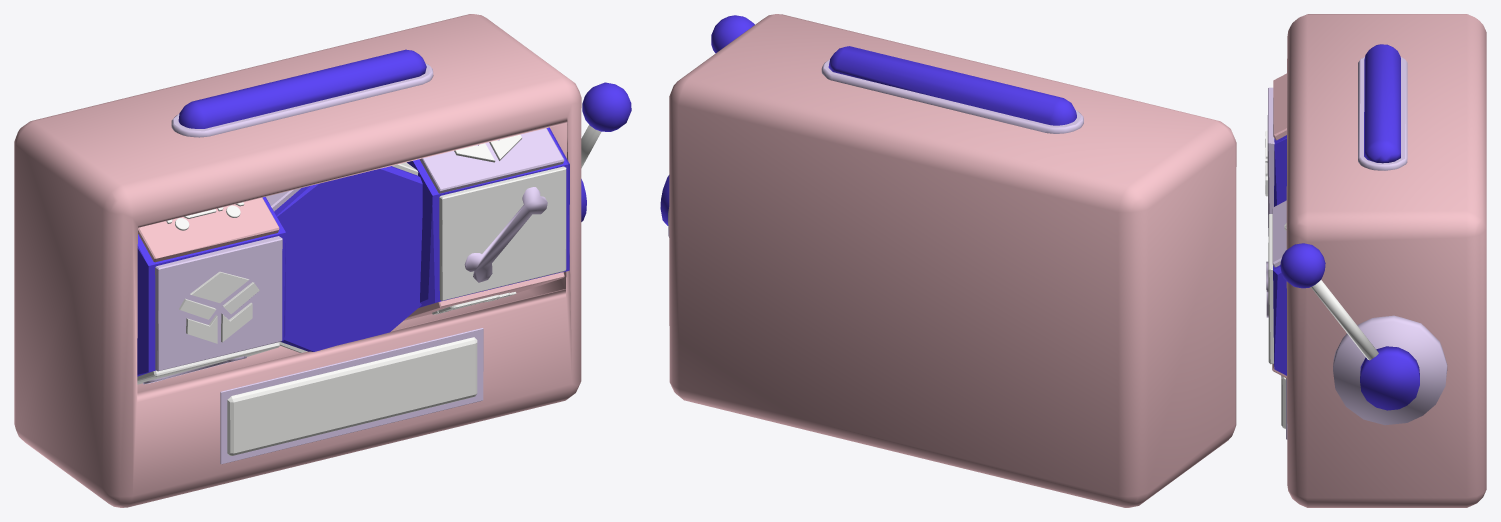
Rendered from slot_machine_7.glb.
The picture shows the model from 3 angles, left to right: view 1: azimuth 30°, elevation 25°; view 2: azimuth 150°, elevation 25°; view 3: azimuth 270°, elevation 25°; orthographic projection. The views are drawn at different scales.
Visible parts, largest first — view 1: boite, roue M, résultat, roue L_blanc, roue L_lilas, gyro, résultat base, roue L_rose.001, roue R_lilas, roue R, roue L, box L.001 (+6 smaller); view 2: boite, gyro, gyro base, manivelle boule; view 3: boite, manivelle base_1, gyro, manivelle base_2, gyro base, manivelle boule, roue R, manivelle poignée, roue L_lilas, roue L_rose.001, roue L, roue R_lilas (+1 smaller).
Boxes of the visible parts, <box> form: boite: <box>14,14,581,507</box>; roue M: <box>274,166,422,351</box>; résultat: <box>227,337,477,455</box>; roue L_blanc: <box>439,166,566,300</box>; roue L_lilas: <box>155,236,282,371</box>; gyro: <box>178,49,426,128</box>; résultat base: <box>220,328,483,464</box>; roue L_rose.001: <box>138,197,279,262</box>; roue R_lilas: <box>419,128,564,193</box>; roue R: <box>407,127,569,307</box>; roue L: <box>137,197,285,376</box>; box L.001: <box>179,271,259,343</box>; boite: <box>669,14,1236,507</box>; gyro: <box>828,46,1076,125</box>; gyro base: <box>821,59,1083,133</box>; manivelle boule: <box>711,15,754,53</box>; boite: <box>1286,14,1486,507</box>; manivelle base_1: <box>1333,315,1447,425</box>; gyro: <box>1364,44,1400,163</box>; manivelle base_2: <box>1360,346,1419,410</box>; gyro base: <box>1358,57,1407,170</box>; manivelle boule: <box>1280,243,1325,288</box>; roue R: <box>1273,265,1286,375</box>; manivelle poignée: <box>1311,280,1378,360</box>; roue L_lilas: <box>1267,87,1274,236</box>; roue L_rose.001: <box>1273,73,1286,140</box>; roue L: <box>1274,135,1286,206</box>; roue R_lilas: <box>1272,200,1286,267</box>.
Size of what is drawn, in the model's own units: 5.02 by 3.18 by 2.01.
